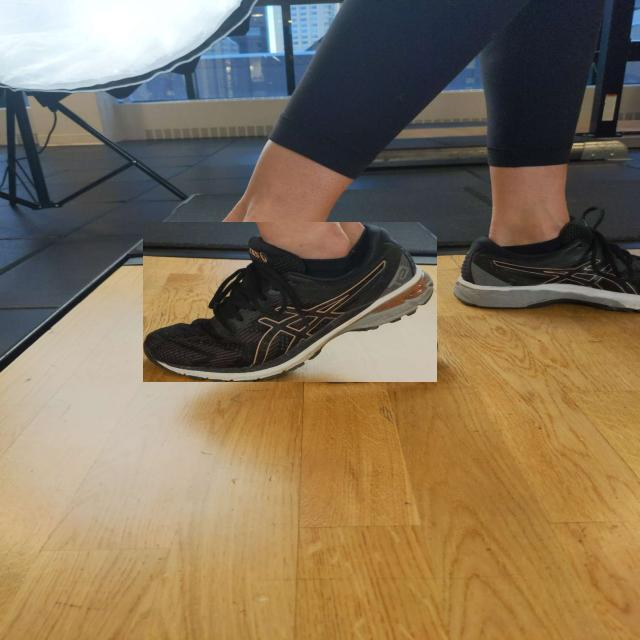shoes: (144, 222, 438, 382), (452, 215, 640, 312)
